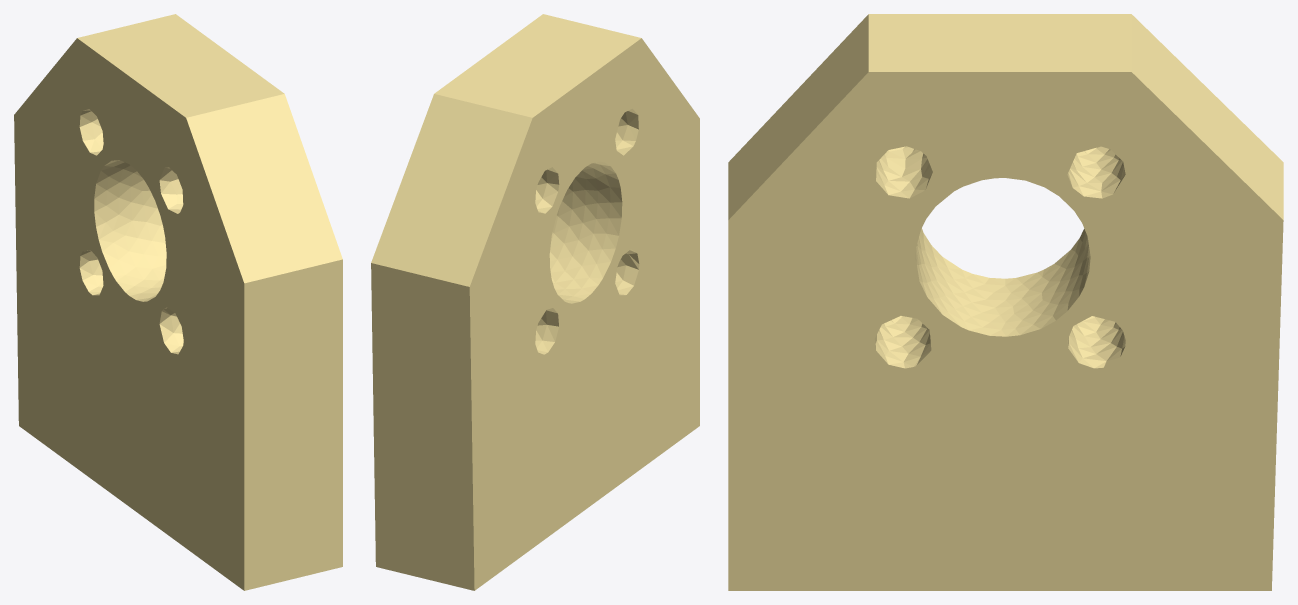
Rendered from input.gltf.
3 renders of one model, left to right at view 1: azimuth 30°, elevation 25°; view 2: azimuth 150°, elevation 25°; view 3: azimuth 270°, elevation 25°, orthographic. The views are drawn at different scales.
Parts seen in each view (by area): view 1: Renderer Node; view 2: Renderer Node; view 3: Renderer Node.
Boxes of the visible parts, x1,y1,x2,y2 form: Renderer Node: [14, 14, 342, 590]; Renderer Node: [371, 14, 699, 590]; Renderer Node: [728, 14, 1283, 590].
Bounding box in the file's own units: 0.1797 × 0.7495 × 0.7266.
